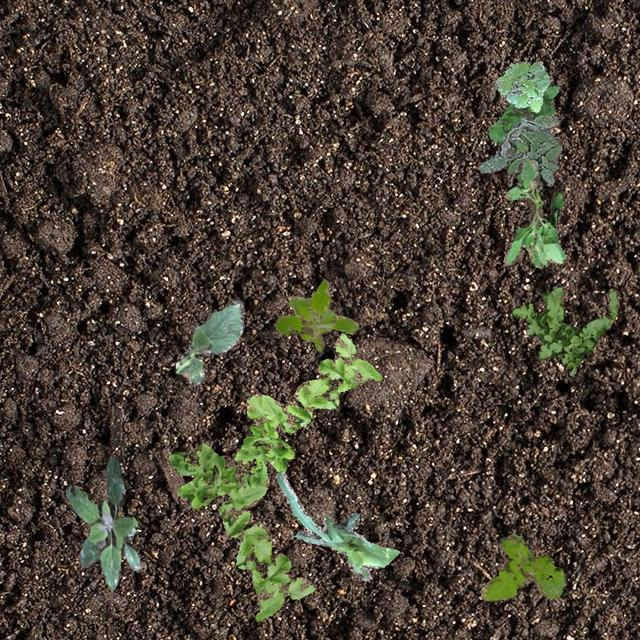crop: (276, 470, 398, 580), (174, 300, 243, 386), (116, 507, 120, 518)
weed: (168, 440, 314, 620), (234, 332, 382, 486), (64, 456, 140, 588), (511, 286, 618, 374), (488, 82, 558, 190), (502, 158, 564, 268), (478, 114, 562, 186), (274, 278, 356, 350), (478, 534, 562, 600), (492, 60, 548, 111)
